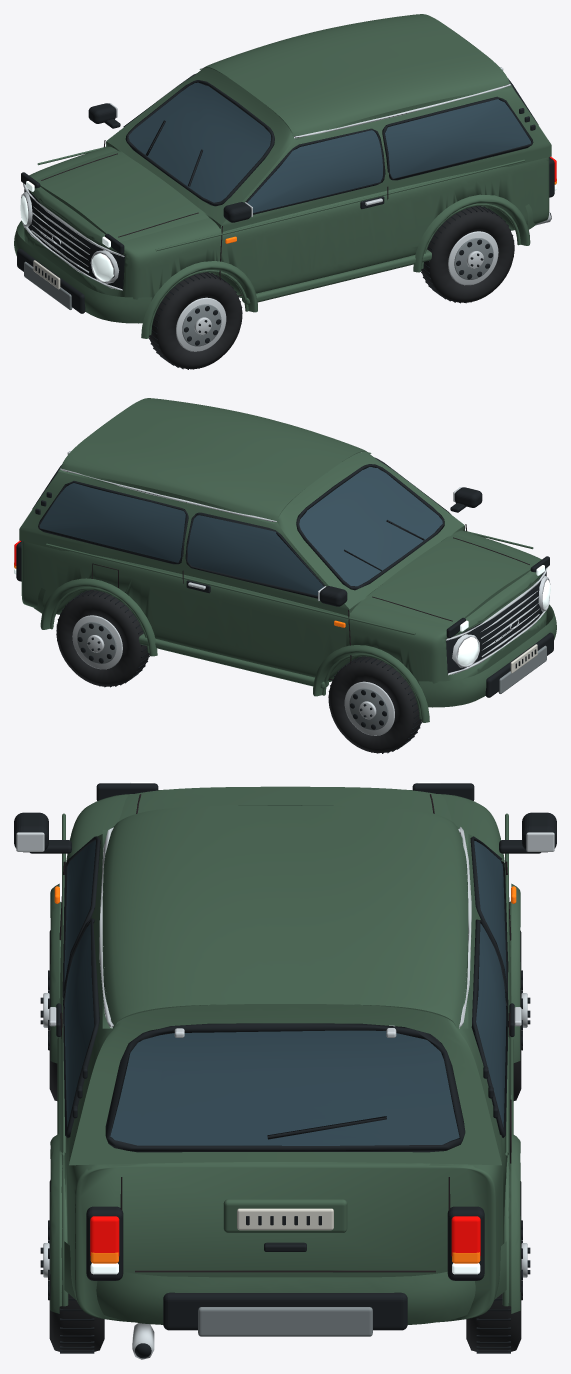
File: niva.glb
3 renders of one model, top to bottom at view 1: azimuth 30°, elevation 25°; view 2: azimuth 150°, elevation 25°; view 3: azimuth 270°, elevation 25°, orthographic. The views are drawn at different scales.
Visible parts, largest first — view 1: Body_Paint_niva, Body_Curved smoked glass, Body_Black trim, Wheel_FR_Tyre, Wheel_RR_Tyre, StockFenders_Paint_niva, StockBumpers_Paint_niva, Body_Machined aluminium, StockSkirts_Paint_niva, Wheel_FR_Machined aluminium, Wheel_RR_Machined aluminium, Wheel_FR_Brake steel (+6 smaller); view 2: Body_Paint_niva, Body_Curved smoked glass, Body_Black trim, Wheel_FL_Tyre, Wheel_RL_Tyre, StockFenders_Paint_niva, StockBumpers_Paint_niva, Body_Machined aluminium, StockSkirts_Paint_niva, Wheel_FL_Machined aluminium, Wheel_RL_Machined aluminium, Wheel_FL_Brake steel (+6 smaller); view 3: Body_Paint_niva, Body_Curved smoked glass, Body_Black trim, StockBumpers_Paint_niva, StockFenders_Paint_niva, Body_Brake steel, StockBumpers_Black trim, Body_Machined aluminium, Wheel_RL_Tyre, Wheel_RR_Tyre, Body_Red lens, Body_Numberplate (+5 smaller).
Part boxes in pixels (x1,y1,x2,y2): Body_Paint_niva: [24, 14, 551, 301]; Body_Curved smoked glass: [128, 82, 530, 212]; Body_Black trim: [21, 73, 554, 289]; Wheel_FR_Tyre: [149, 272, 242, 369]; Wheel_RR_Tyre: [421, 206, 514, 302]; StockFenders_Paint_niva: [141, 194, 530, 338]; StockBumpers_Paint_niva: [14, 204, 536, 323]; Body_Machined aluminium: [21, 67, 551, 290]; StockSkirts_Paint_niva: [242, 249, 431, 304]; Wheel_FR_Machined aluminium: [176, 297, 226, 351]; Wheel_RR_Machined aluminium: [448, 231, 498, 285]; Wheel_FR_Brake steel: [182, 304, 221, 346]; Body_Paint_niva: [19, 398, 546, 685]; Body_Curved smoked glass: [40, 467, 442, 595]; Body_Black trim: [16, 457, 549, 673]; Wheel_FL_Tyre: [328, 656, 421, 753]; Wheel_RL_Tyre: [56, 590, 149, 686]; StockFenders_Paint_niva: [40, 578, 429, 722]; StockBumpers_Paint_niva: [34, 588, 556, 707]; Body_Machined aluminium: [60, 451, 550, 675]; StockSkirts_Paint_niva: [138, 633, 328, 688]; Wheel_FL_Machined aluminium: [344, 681, 394, 735]; Wheel_RL_Machined aluminium: [72, 615, 122, 669]; Wheel_FL_Brake steel: [349, 688, 388, 730]; Body_Paint_niva: [59, 786, 511, 1322]; Body_Curved smoked glass: [64, 840, 506, 1145]; Body_Black trim: [14, 783, 556, 1358]; StockBumpers_Paint_niva: [64, 1241, 506, 1324]; StockFenders_Paint_niva: [50, 883, 520, 1313]; Body_Brake steel: [198, 1307, 372, 1336]; StockBumpers_Black trim: [163, 1292, 407, 1330]; Body_Machined aluminium: [16, 827, 554, 1359]; Wheel_RL_Tyre: [466, 1181, 521, 1352]; Wheel_RR_Tyre: [49, 1180, 104, 1352]; Body_Red lens: [90, 1216, 480, 1255]; Body_Numberplate: [237, 1208, 333, 1230].
Size of the model in its own units: 3.79 by 1.64 by 2.02.
